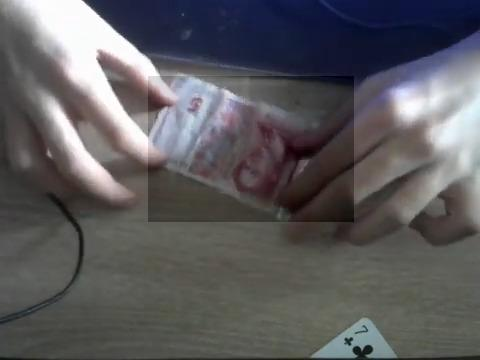5leva: (148, 76, 354, 222)
